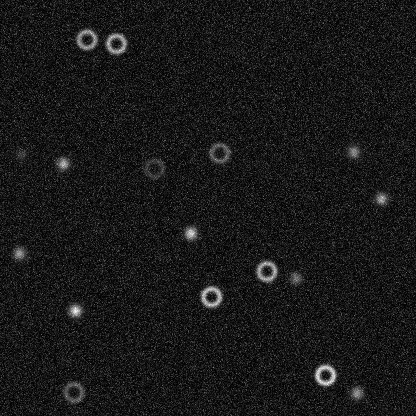Ring: (61, 379, 85, 403), (207, 140, 231, 164), (74, 27, 98, 51), (142, 156, 166, 180), (199, 284, 223, 308), (103, 31, 127, 55), (313, 362, 337, 386), (254, 259, 278, 283)
Spot: (372, 190, 388, 206), (67, 302, 83, 318), (55, 155, 71, 171), (348, 385, 364, 401), (12, 146, 28, 162), (345, 143, 361, 159), (11, 245, 27, 261), (287, 270, 303, 286), (182, 225, 198, 241)
